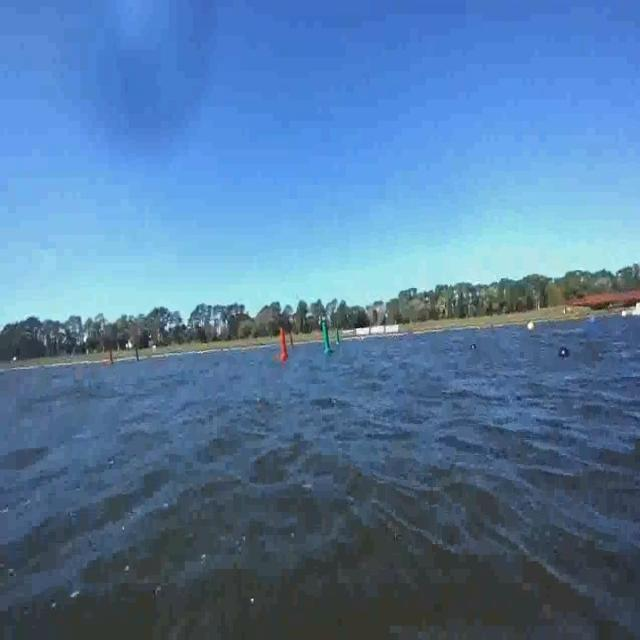black-buoy: (558, 344, 572, 360), (472, 344, 480, 351)
green-column-buoy: (322, 319, 336, 356), (337, 331, 343, 347)
red-column-buoy: (279, 327, 290, 360), (107, 346, 116, 367)
yellow-buoy: (527, 319, 536, 332)
